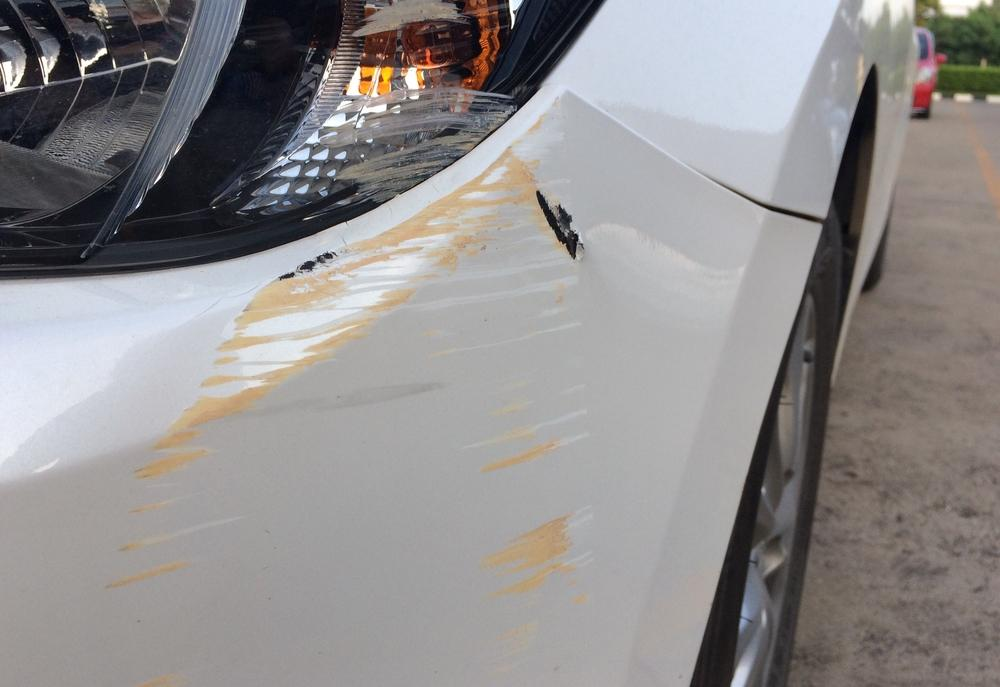scratch: (108, 95, 610, 687), (316, 0, 520, 204)
